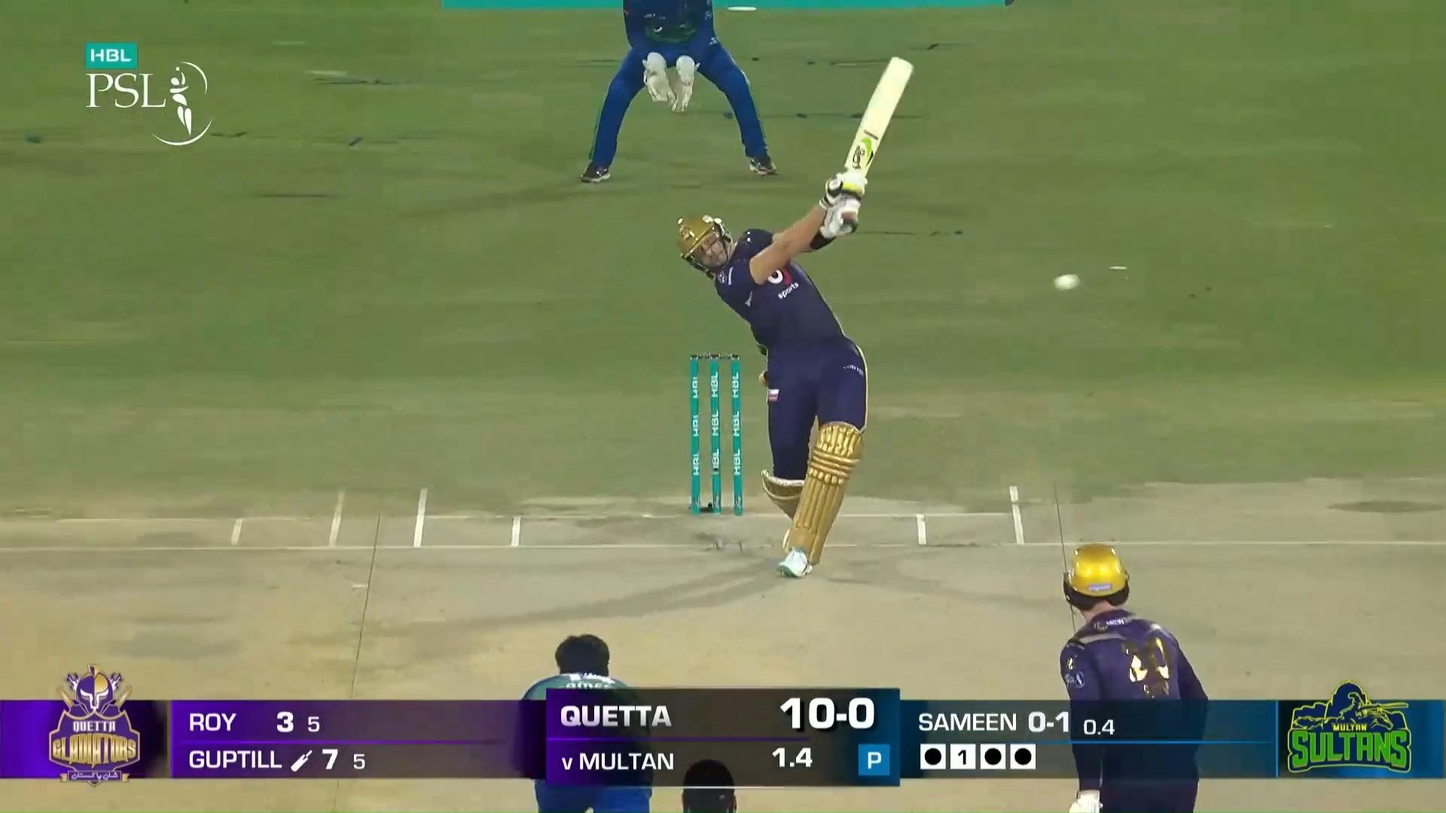batsman: (674, 53, 913, 581)
